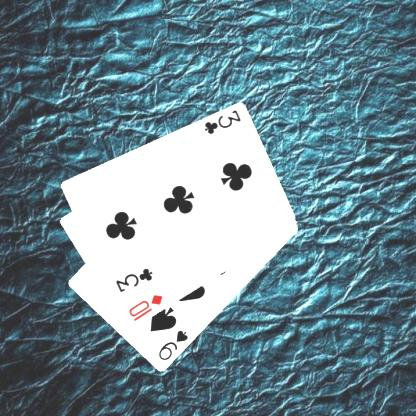10D: (126, 292, 164, 323)
3C: (201, 107, 242, 136), (113, 266, 154, 294)
9S: (156, 328, 189, 362)
